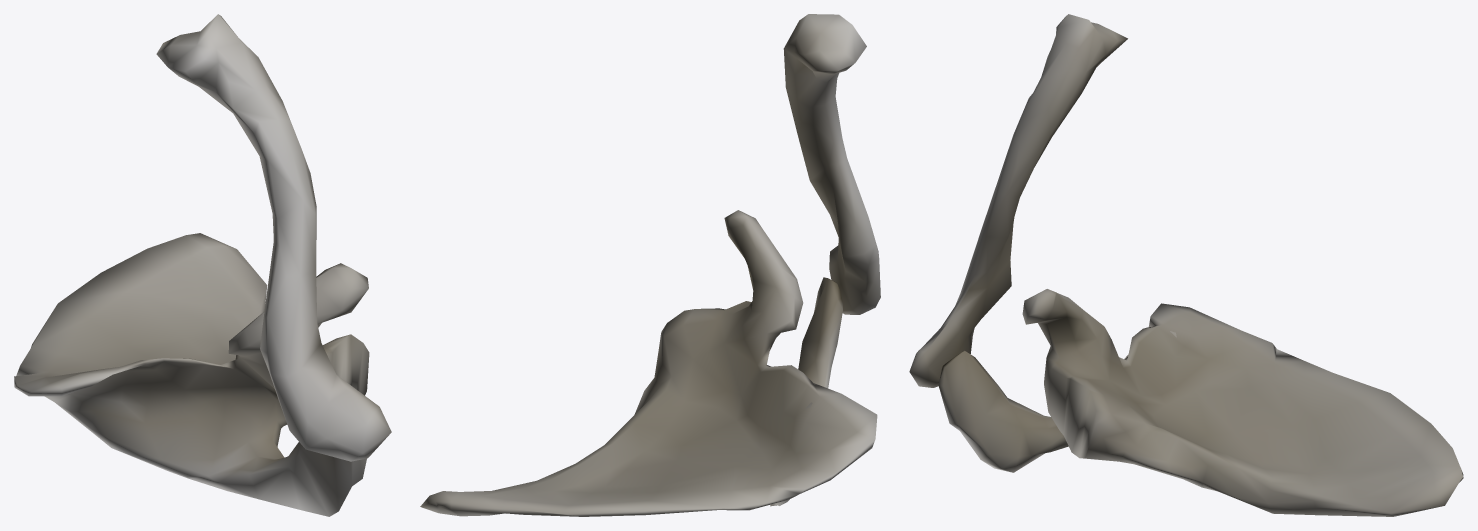
Rendered from animals-animalparts-skeleton_v7.glb.
3 renders of one model, left to right at view 1: azimuth 30°, elevation 25°; view 2: azimuth 150°, elevation 25°; view 3: azimuth 270°, elevation 25°, orthographic. The views are drawn at different scales.
Parts seen in each view (by area): view 1: Skeleton_v7; view 2: Skeleton_v7; view 3: Skeleton_v7.
Boxes of the visible parts, box(x1,y1,x2,y2) form: Skeleton_v7: box(14, 14, 391, 516); Skeleton_v7: box(420, 14, 880, 516); Skeleton_v7: box(909, 14, 1463, 516).
Size of the model in its own units: 0.1464 by 0.1935 by 0.2268.
